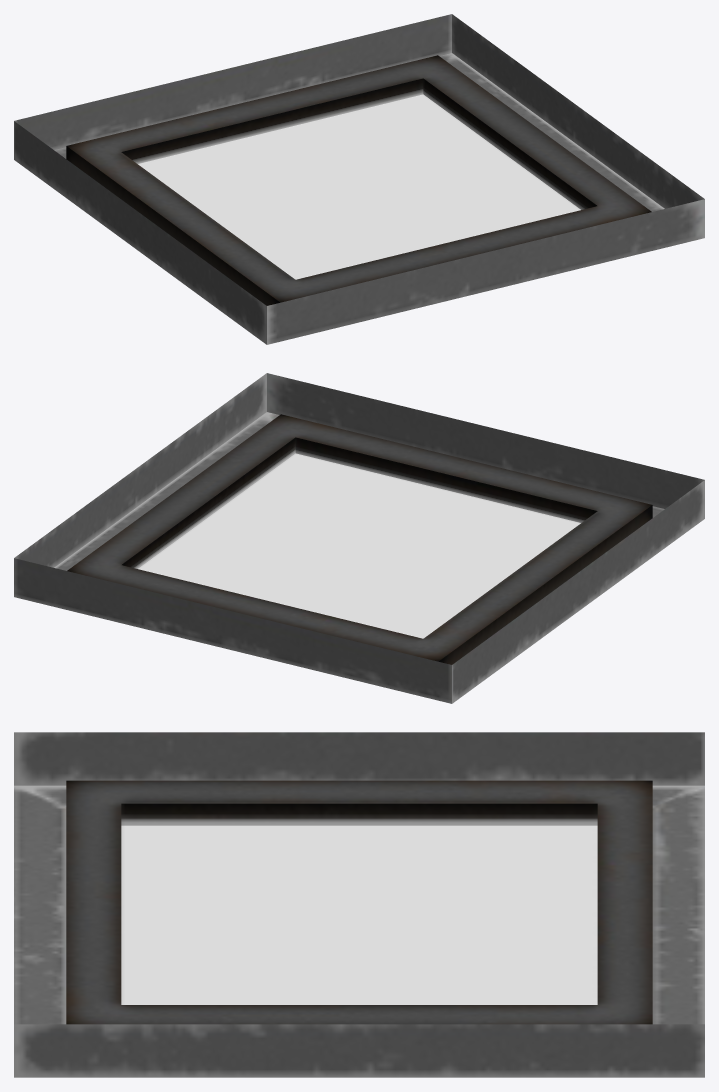
File: CeilingLight_On.FBX
3 views of the same model, one above another, from view 1: azimuth 30°, elevation 25°; view 2: azimuth 150°, elevation 25°; view 3: azimuth 270°, elevation 25° (orthographic). The views are drawn at different scales.
Parts seen in each view (by area): view 1: CeilingLight_On; view 2: CeilingLight_On; view 3: CeilingLight_On.
Part boxes in pixels (bbox=[...]): CeilingLight_On: bbox=[14, 14, 704, 344]; CeilingLight_On: bbox=[14, 373, 704, 703]; CeilingLight_On: bbox=[14, 732, 704, 1077].
Bounding box in the file's own units: 94.7 × 8.05 × 94.7.
